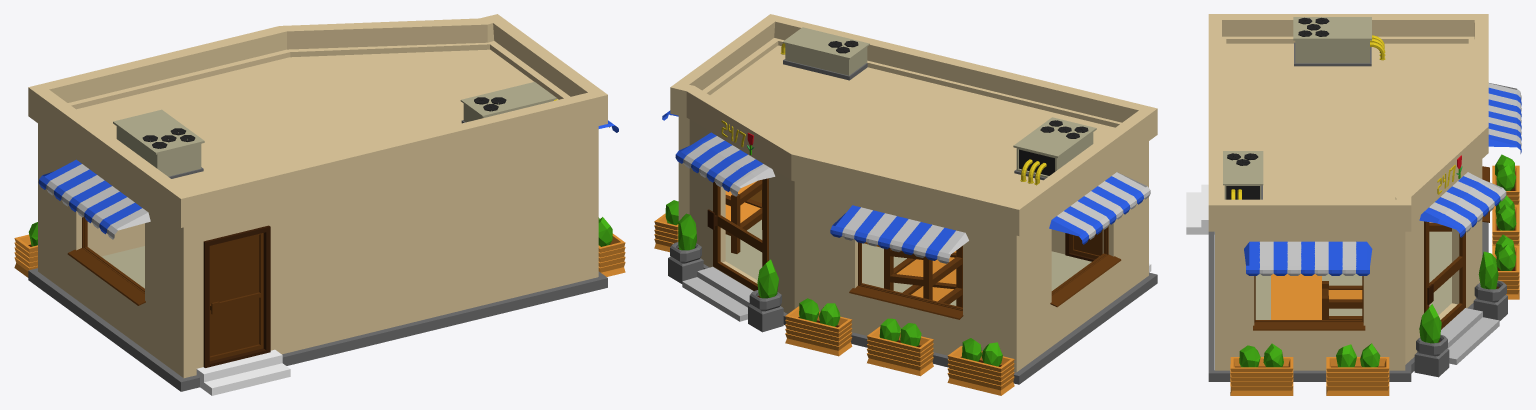
The model's file is shop-flower-a.glb.
The picture shows the model from 3 angles, left to right: view 1: azimuth 30°, elevation 25°; view 2: azimuth 150°, elevation 25°; view 3: azimuth 270°, elevation 25°; orthographic projection. The views are drawn at different scales.
Parts seen in each view (by area): view 1: object 1, object 3, object 101, object 2, object 248, object 108, object 249, object 250, object 103, object 52, object 4, object 23; view 2: object 1, object 101, object 3, object 4, object 103, object 2, object 108, object 42, object 11, object 62, object 51, object 63 (+22 smaller); view 3: object 101, object 1, object 3, object 108, object 4, object 181, object 2, object 42, object 11, object 103, object 63, object 250 (+47 smaller).
Part boxes in pixels (x1=…): object 1: x1=38, y1=41, x2=598, y2=378; object 3: x1=28, y1=14, x2=607, y2=227; object 101: x1=76, y1=49, x2=558, y2=190; object 2: x1=28, y1=268, x2=607, y2=391; object 248: x1=209, y1=233, x2=263, y2=361; object 108: x1=113, y1=109, x2=204, y2=176; object 249: x1=203, y1=225, x2=270, y2=367; object 250: x1=196, y1=349, x2=290, y2=395; object 103: x1=460, y1=82, x2=556, y2=122; object 52: x1=67, y1=248, x2=145, y2=305; object 4: x1=101, y1=246, x2=144, y2=288; object 23: x1=107, y1=208, x2=150, y2=239; object 1: x1=678, y1=38, x2=1148, y2=372; object 101: x1=710, y1=45, x2=1114, y2=201; object 3: x1=670, y1=14, x2=1157, y2=235; object 4: x1=725, y1=219, x2=1091, y2=305; object 103: x1=782, y1=27, x2=869, y2=75; object 2: x1=703, y1=264, x2=1157, y2=384; object 108: x1=1013, y1=117, x2=1096, y2=177; object 42: x1=682, y1=266, x2=753, y2=321; object 11: x1=713, y1=178, x2=768, y2=290; object 62: x1=748, y1=290, x2=783, y2=332; object 51: x1=849, y1=285, x2=963, y2=319; object 63: x1=668, y1=242, x2=703, y2=283; object 101: x1=1226, y1=43, x2=1468, y2=199; object 1: x1=1215, y1=36, x2=1482, y2=370; object 3: x1=1208, y1=14, x2=1488, y2=231; object 108: x1=1293, y1=17, x2=1371, y2=63; object 4: x1=1255, y1=231, x2=1451, y2=319; object 181: x1=1271, y1=273, x2=1321, y2=319; object 2: x1=1208, y1=222, x2=1488, y2=381; object 42: x1=1440, y1=308, x2=1499, y2=364; object 11: x1=1424, y1=221, x2=1465, y2=329; object 103: x1=1223, y1=151, x2=1263, y2=199; object 63: x1=1414, y1=335, x2=1449, y2=377; object 250: x1=1186, y1=184, x2=1214, y2=234.
Bounding box in the file's own units: 6.23 × 2.46 × 4.03.
